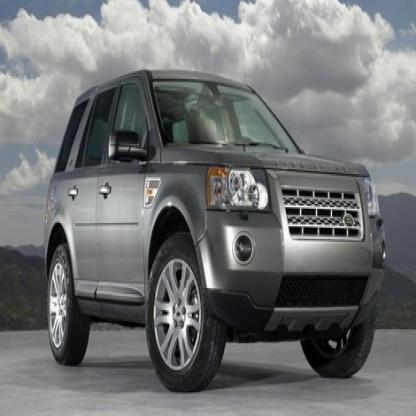Vehicle: (45, 73, 389, 395)
